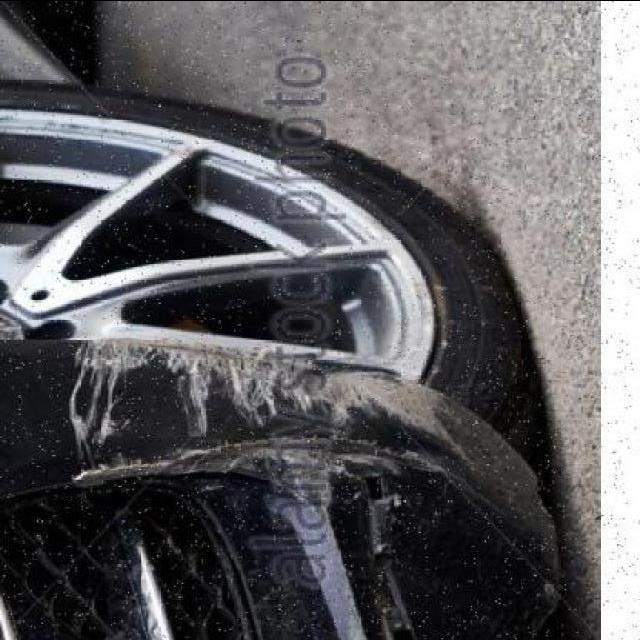front-bumper-dent: (0, 288, 531, 640)
